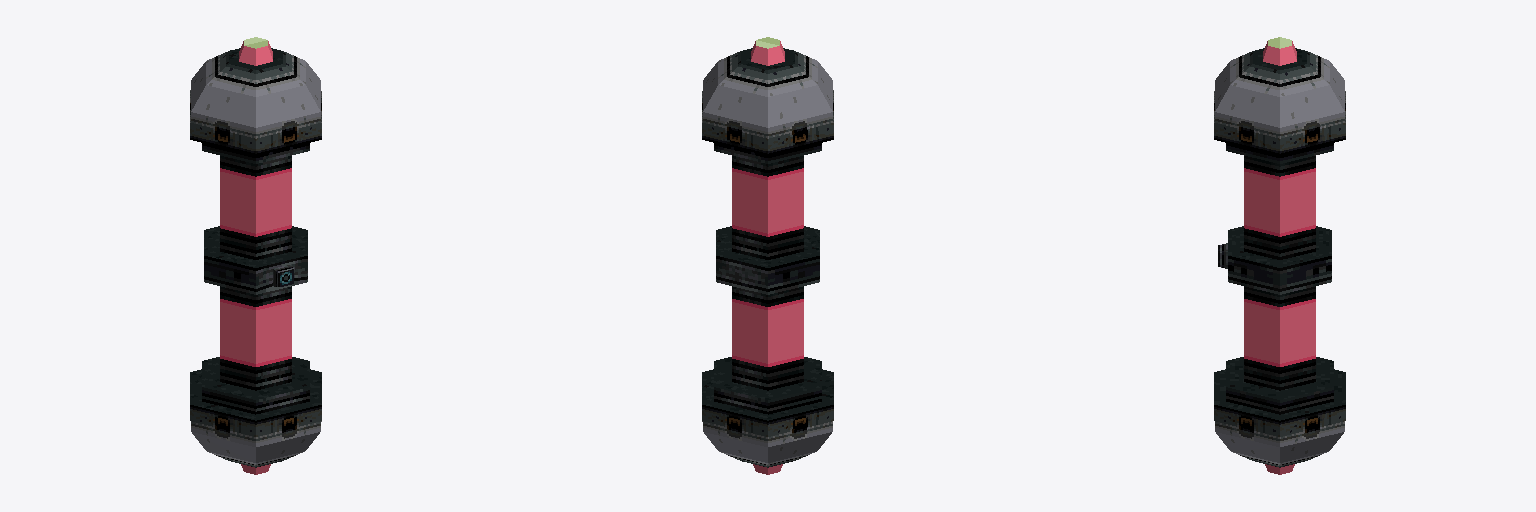
3 renders of one model, left to right at view 1: azimuth 30°, elevation 25°; view 2: azimuth 150°, elevation 25°; view 3: azimuth 270°, elevation 25°, orthographic.
Visible parts, largest first — view 1: Object_0.001, Object_2.001, Object_1.001; view 2: Object_0.001, Object_2.001, Object_1.001; view 3: Object_0.001, Object_2.001, Object_1.001.
Part boxes in pixels (x1,y1,x2,y2): Object_0.001: (204, 156, 307, 390); Object_2.001: (190, 37, 321, 163); Object_1.001: (190, 357, 321, 474); Object_0.001: (716, 156, 819, 390); Object_2.001: (702, 37, 833, 163); Object_1.001: (702, 357, 833, 474); Object_0.001: (1218, 156, 1331, 390); Object_2.001: (1214, 37, 1345, 163); Object_1.001: (1214, 357, 1345, 474).
Bounding box in the file's own units: 2290 × 7046 × 1984.
Materials: 4 (4 with a texture image).